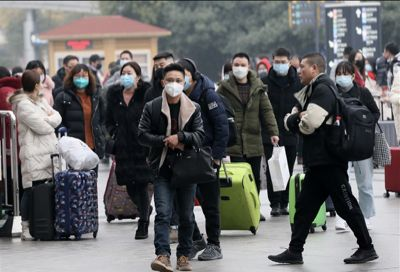no-mask: (297, 53, 326, 87)
with-mask: (160, 66, 190, 99), (115, 63, 142, 91), (268, 50, 292, 78), (335, 61, 359, 89), (67, 64, 90, 90), (228, 55, 251, 80), (254, 59, 270, 78), (117, 46, 132, 66), (88, 54, 103, 71)
